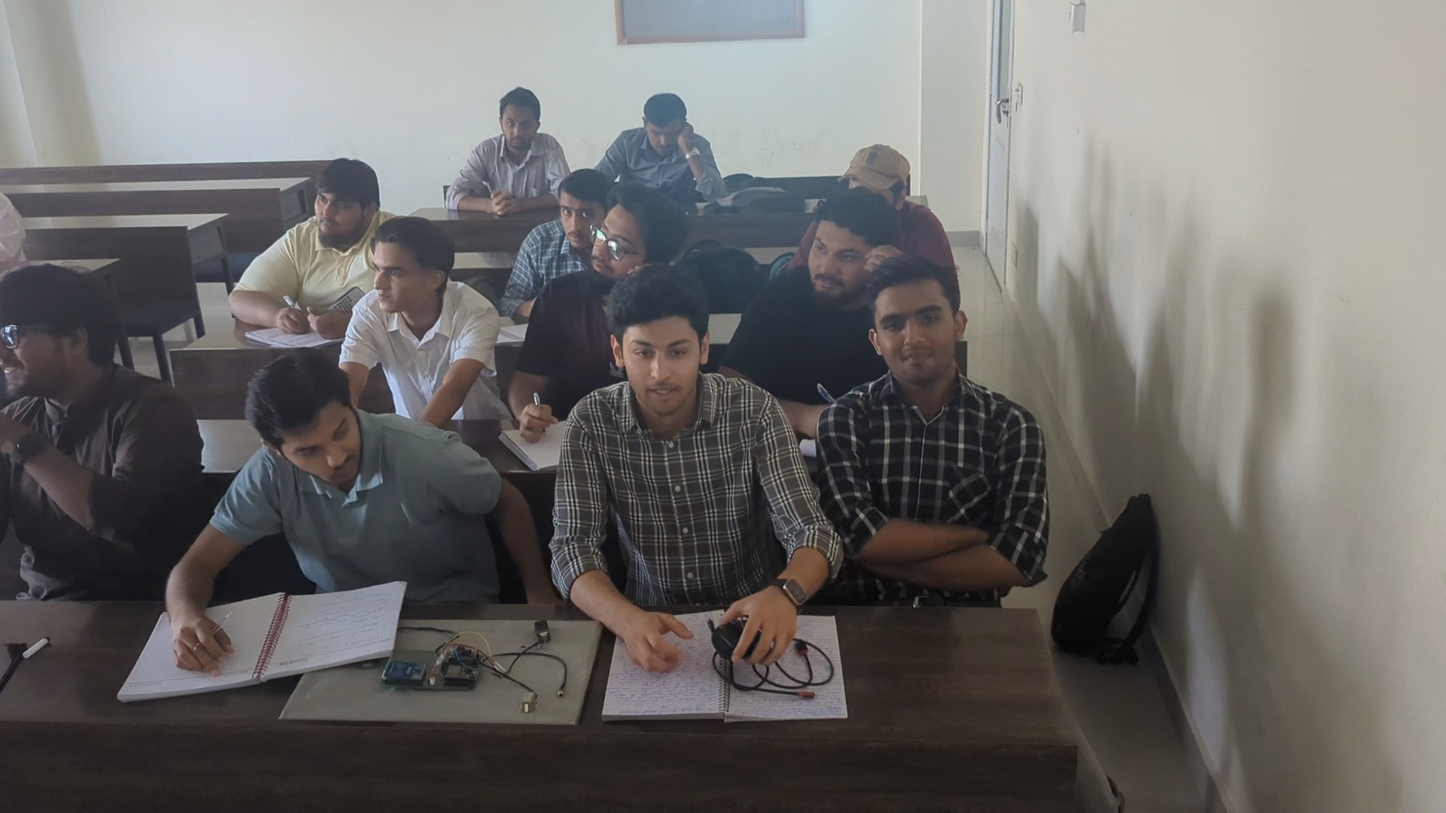look_forward: (568, 259, 756, 544), (850, 265, 1039, 538), (0, 266, 176, 550), (348, 227, 473, 345), (271, 139, 371, 276), (783, 201, 873, 336), (523, 165, 601, 266), (578, 201, 665, 275), (492, 92, 555, 190)
sleep: (623, 83, 738, 204)
turn_head: (233, 332, 474, 597)
